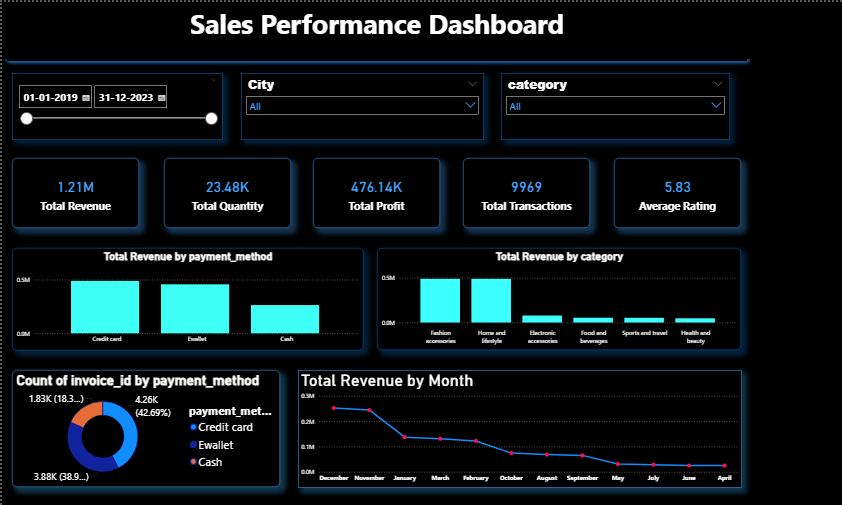

The page's visual inventory and layout, read from the dashboard file:
{"tool":"powerbi","page":{"name":"Page 1","canvas":[1700,1200],"ordinal":0},"visuals":[{"type":"shape","box":[0,0,1500,128],"z":0},{"type":"textbox","box":[0,0,1500,114.2],"z":1000},{"type":"card","fields":{"Values":["walmartproject1.Total Quantity"]},"box":[324.8,311,253.9,139.8],"z":2000},{"type":"card","fields":{"Values":["walmartproject1.Total Profit"]},"box":[622,311,253.9,139.8],"z":3000},{"type":"card","fields":{"Values":["walmartproject1.Total Transactions"]},"box":[921.3,311,253.9,139.8],"z":4000},{"type":"card","fields":{"Values":["walmartproject1.Average Rating"]},"box":[1224.4,311,253.9,139.8],"z":5000},{"type":"card","fields":{"Values":["walmartproject1.Total Revenue"]},"box":[19.7,311,253.9,139.8],"z":6000},{"type":"slicer","fields":{"Values":["walmartproject1.City"]},"box":[478.3,141.7,486.2,133.9],"z":7000},{"type":"slicer","fields":{"Values":["walmartproject1.date"]},"box":[19.7,141.7,421.3,133.9],"z":8000},{"type":"slicer","fields":{"Values":["walmartproject1.category"]},"box":[997.5,142.5,457.5,132.5],"z":9000},{"type":"columnChart","fields":{"Category":["walmartproject1.payment_method"],"Y":["walmartproject1.Total Revenue"]},"box":[19.7,492.1,702.8,204.7],"z":10000},{"type":"columnChart","fields":{"Y":["walmartproject1.Total Revenue"],"Category":["walmartproject1.category"]},"box":[750,492,728,204],"z":10001},{"type":"donutChart","fields":{"Category":["walmartproject1.payment_method"],"Y":["CountNonNull(walmartproject1.invoice_id)"]},"box":[20,736,536,234],"z":10003},{"type":"lineChart","fields":{"Category":["walmartproject1.Month"],"Y":["walmartproject1.Total Revenue"]},"box":[592.5,735,887.5,235],"z":10004}]}

Visuals, with their boxes on the page's 1700x1200 design canvas (x1, y1, x2, y2). These are canvas units, not pixel positions in the 842x505 screenshot, which may show the page scaled, cropped or inside an application window:
shape: bbox=[0, 0, 1500, 128]
textbox: bbox=[0, 0, 1500, 114]
card - walmartproject1.Total Quantity: bbox=[325, 311, 579, 451]
card - walmartproject1.Total Profit: bbox=[622, 311, 876, 451]
card - walmartproject1.Total Transactions: bbox=[921, 311, 1175, 451]
card - walmartproject1.Average Rating: bbox=[1224, 311, 1478, 451]
card - walmartproject1.Total Revenue: bbox=[20, 311, 274, 451]
slicer - walmartproject1.City: bbox=[478, 142, 964, 276]
slicer - walmartproject1.date: bbox=[20, 142, 441, 276]
slicer - walmartproject1.category: bbox=[998, 142, 1455, 275]
columnChart - walmartproject1.payment_method x walmartproject1.Total Revenue: bbox=[20, 492, 722, 697]
columnChart - walmartproject1.Total Revenue x walmartproject1.category: bbox=[750, 492, 1478, 696]
donutChart - walmartproject1.payment_method x CountNonNull(walmartproject1.invoice_id): bbox=[20, 736, 556, 970]
lineChart - walmartproject1.Month x walmartproject1.Total Revenue: bbox=[592, 735, 1480, 970]
